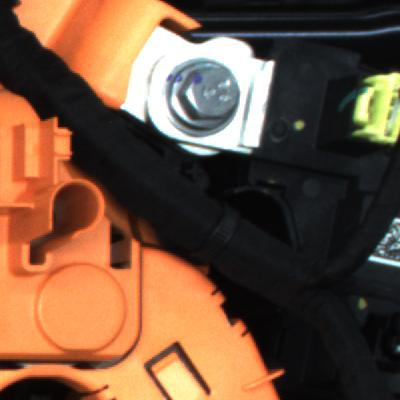nut_b: (162, 50, 259, 143)
